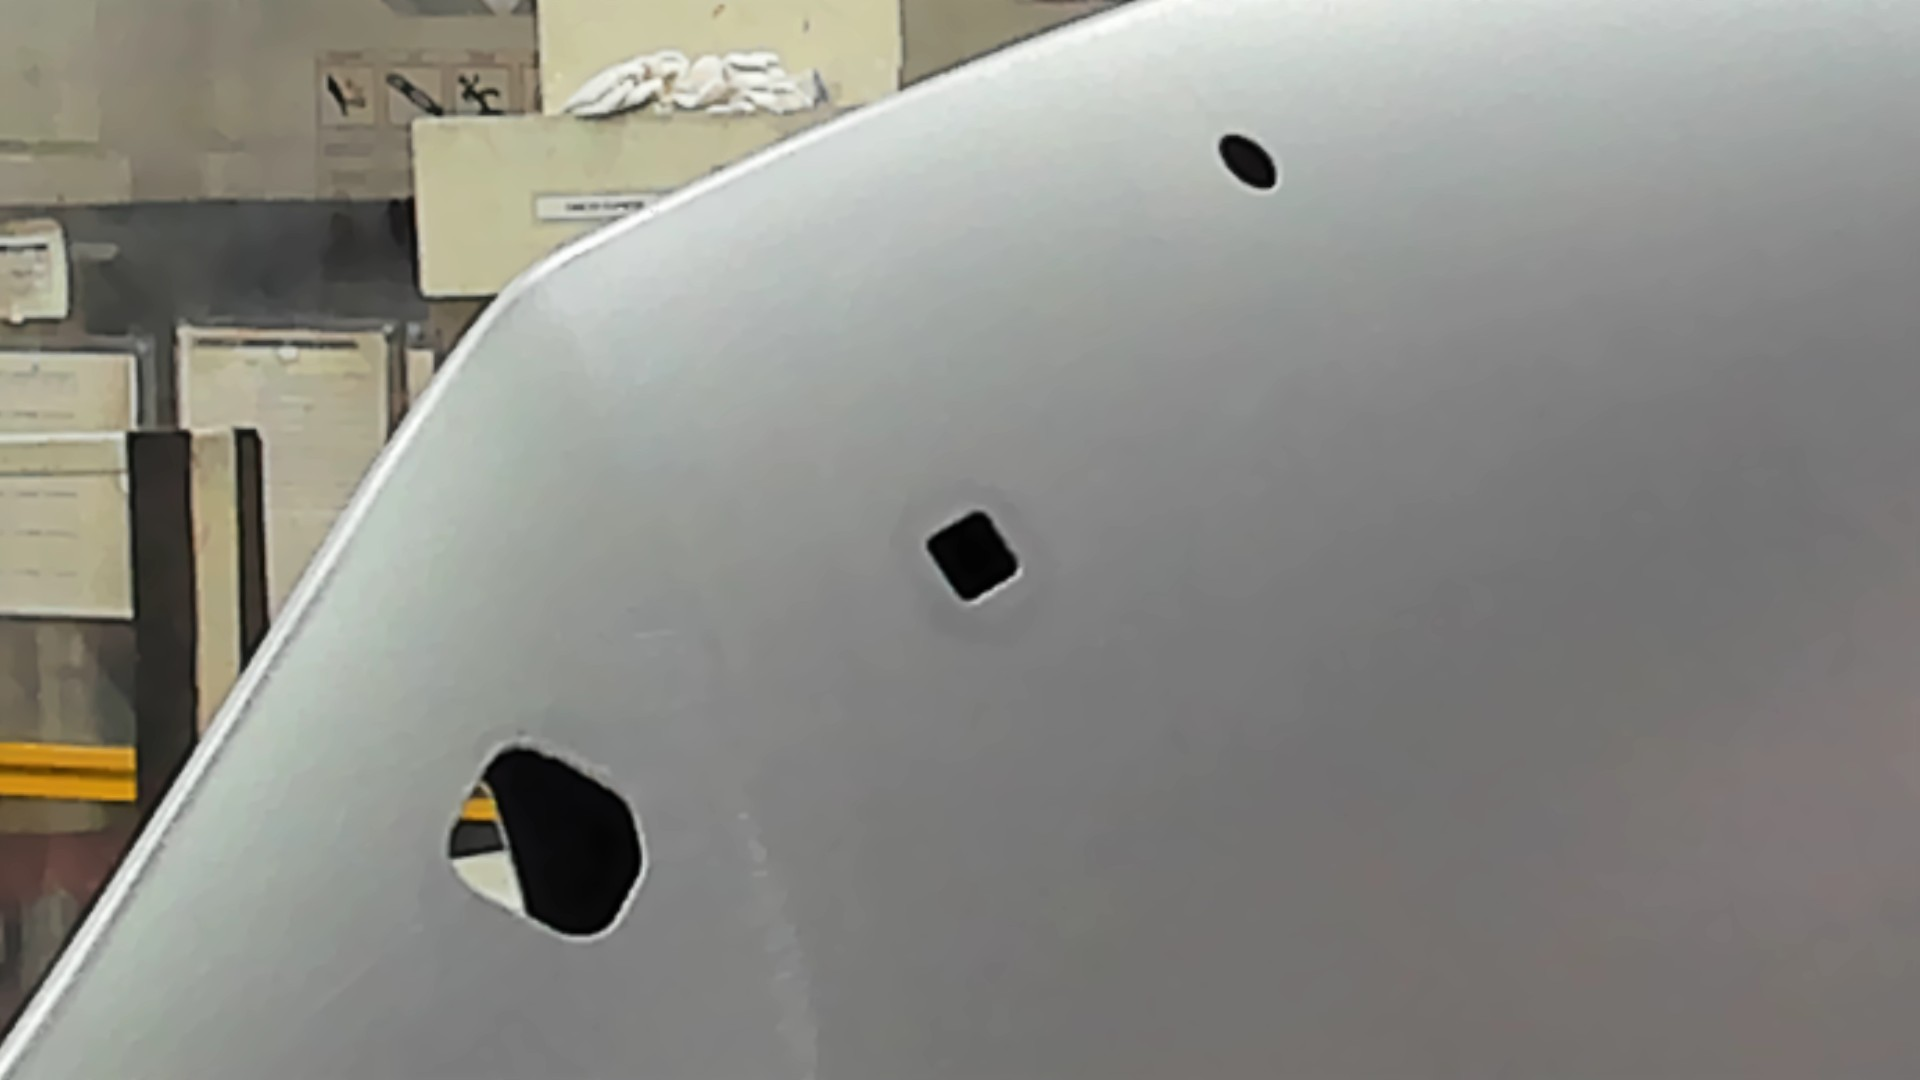capo: (1029, 202, 1920, 1080)
chico: (1213, 124, 1282, 196)
grande: (446, 740, 651, 945)
mediano: (918, 500, 1029, 609)
